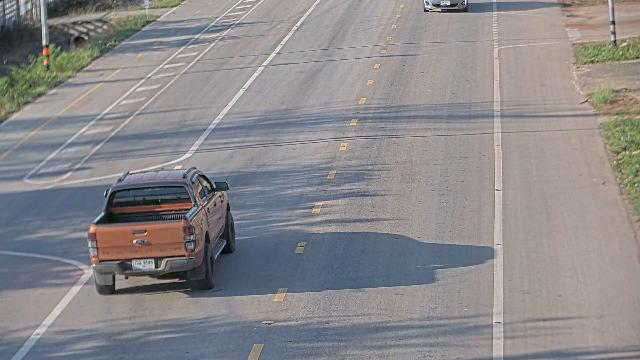pickup-truck: (86, 166, 236, 295), (423, 0, 468, 12)
